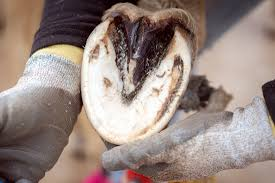horsesole: (80, 18, 192, 146)
